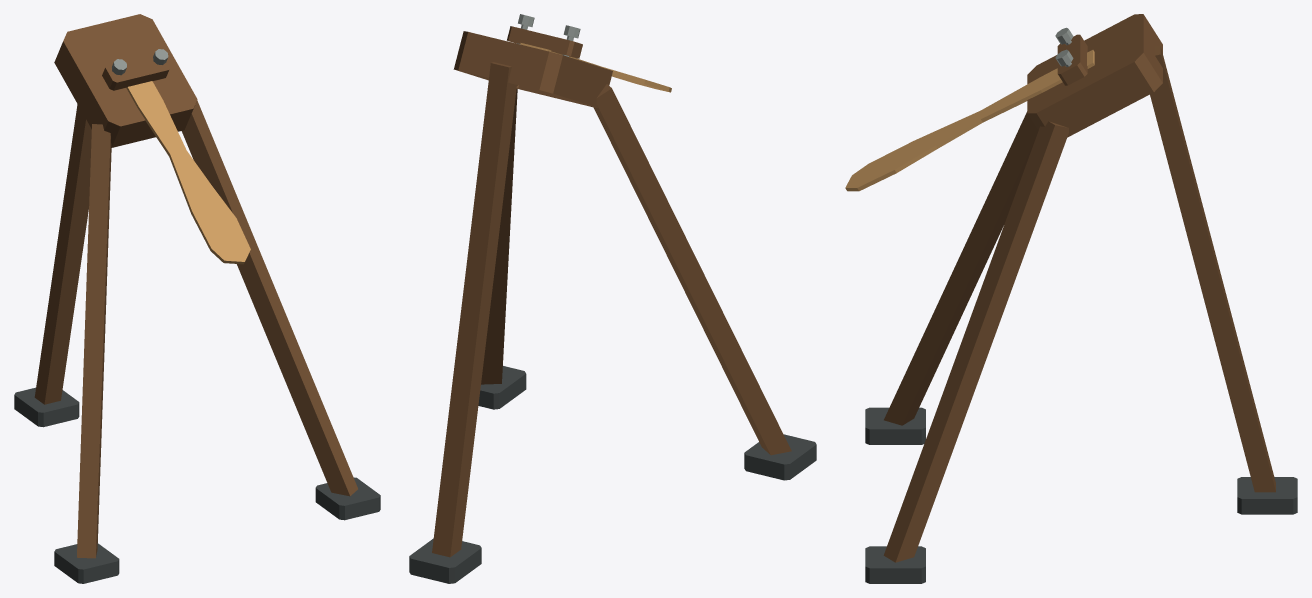
3 views of the same model, side by side, from view 1: azimuth 30°, elevation 25°; view 2: azimuth 150°, elevation 25°; view 3: azimuth 270°, elevation 25° (orthographic). The views are drawn at different scales.
Parts seen in each view (by area): view 1: WholeSplayedTripodLeg_1, WholeTiltedOpenUndersideSoundbody, WholeSplayedTripodLeg_0, WholeSplayedTripodLeg_2, WholeSingleWaistedCantileverWoodTongue, WholeFiniteGroundFoot_0, WholeFiniteGroundFoot_1, WholeFiniteGroundFoot_2, WholeTransverseTongueClampBar; view 2: WholeSplayedTripodLeg_2, WholeSplayedTripodLeg_0, WholeTiltedOpenUndersideSoundbody, WholeSplayedTripodLeg_1, WholeFiniteGroundFoot_2, WholeFiniteGroundFoot_0, WholeFiniteGroundFoot_1, WholeTransverseTongueClampBar, WholeSingleWaistedCantileverWoodTongue; view 3: WholeSplayedTripodLeg_1, WholeSplayedTripodLeg_2, WholeTiltedOpenUndersideSoundbody, WholeSplayedTripodLeg_0, WholeSingleWaistedCantileverWoodTongue, WholeFiniteGroundFoot_2, WholeFiniteGroundFoot_1, WholeFiniteGroundFoot_0, WholeTransverseTongueClampBar.
Part boxes in pixels (x1=…): WholeSplayedTripodLeg_1: x1=181, y1=100, x2=357, y2=496; WholeTiltedOpenUndersideSoundbody: x1=54, y1=14, x2=197, y2=147; WholeSplayedTripodLeg_0: x1=77, y1=124, x2=111, y2=558; WholeSplayedTripodLeg_2: x1=34, y1=104, x2=91, y2=404; WholeSingleWaistedCantileverWoodTongue: x1=126, y1=81, x2=250, y2=264; WholeFiniteGroundFoot_0: x1=54, y1=543, x2=119, y2=583; WholeFiniteGroundFoot_1: x1=315, y1=477, x2=380, y2=520; WholeFiniteGroundFoot_2: x1=14, y1=387, x2=79, y2=427; WholeTransverseTongueClampBar: x1=102, y1=52, x2=170, y2=90; WholeSplayedTripodLeg_2: x1=432, y1=62, x2=516, y2=557; WholeSplayedTripodLeg_0: x1=593, y1=84, x2=791, y2=455; WholeTiltedOpenUndersideSoundbody: x1=453, y1=31, x2=612, y2=107; WholeSplayedTripodLeg_1: x1=481, y1=85, x2=517, y2=384; WholeFiniteGroundFoot_2: x1=409, y1=538, x2=481, y2=583; WholeFiniteGroundFoot_0: x1=744, y1=434, x2=816, y2=480; WholeFiniteGroundFoot_1: x1=478, y1=366, x2=526, y2=409; WholeTransverseTongueClampBar: x1=507, y1=26, x2=582, y2=58; WholeSingleWaistedCantileverWoodTongue: x1=520, y1=43, x2=671, y2=92; WholeSplayedTripodLeg_1: x1=883, y1=121, x2=1068, y2=562; WholeSplayedTripodLeg_2: x1=1150, y1=46, x2=1275, y2=492; WholeTiltedOpenUndersideSoundbody: x1=1027, y1=14, x2=1162, y2=137; WholeSplayedTripodLeg_0: x1=884, y1=111, x2=1038, y2=425; WholeSingleWaistedCantileverWoodTongue: x1=845, y1=50, x2=1094, y2=191; WholeFiniteGroundFoot_2: x1=1237, y1=477, x2=1297, y2=514; WholeFiniteGroundFoot_1: x1=865, y1=546, x2=925, y2=583; WholeFiniteGroundFoot_0: x1=865, y1=407, x2=925, y2=444; WholeTransverseTongueClampBar: x1=1057, y1=34, x2=1087, y2=85.
Size of the model in its own units: 0.44 by 0.6 by 0.5233.
